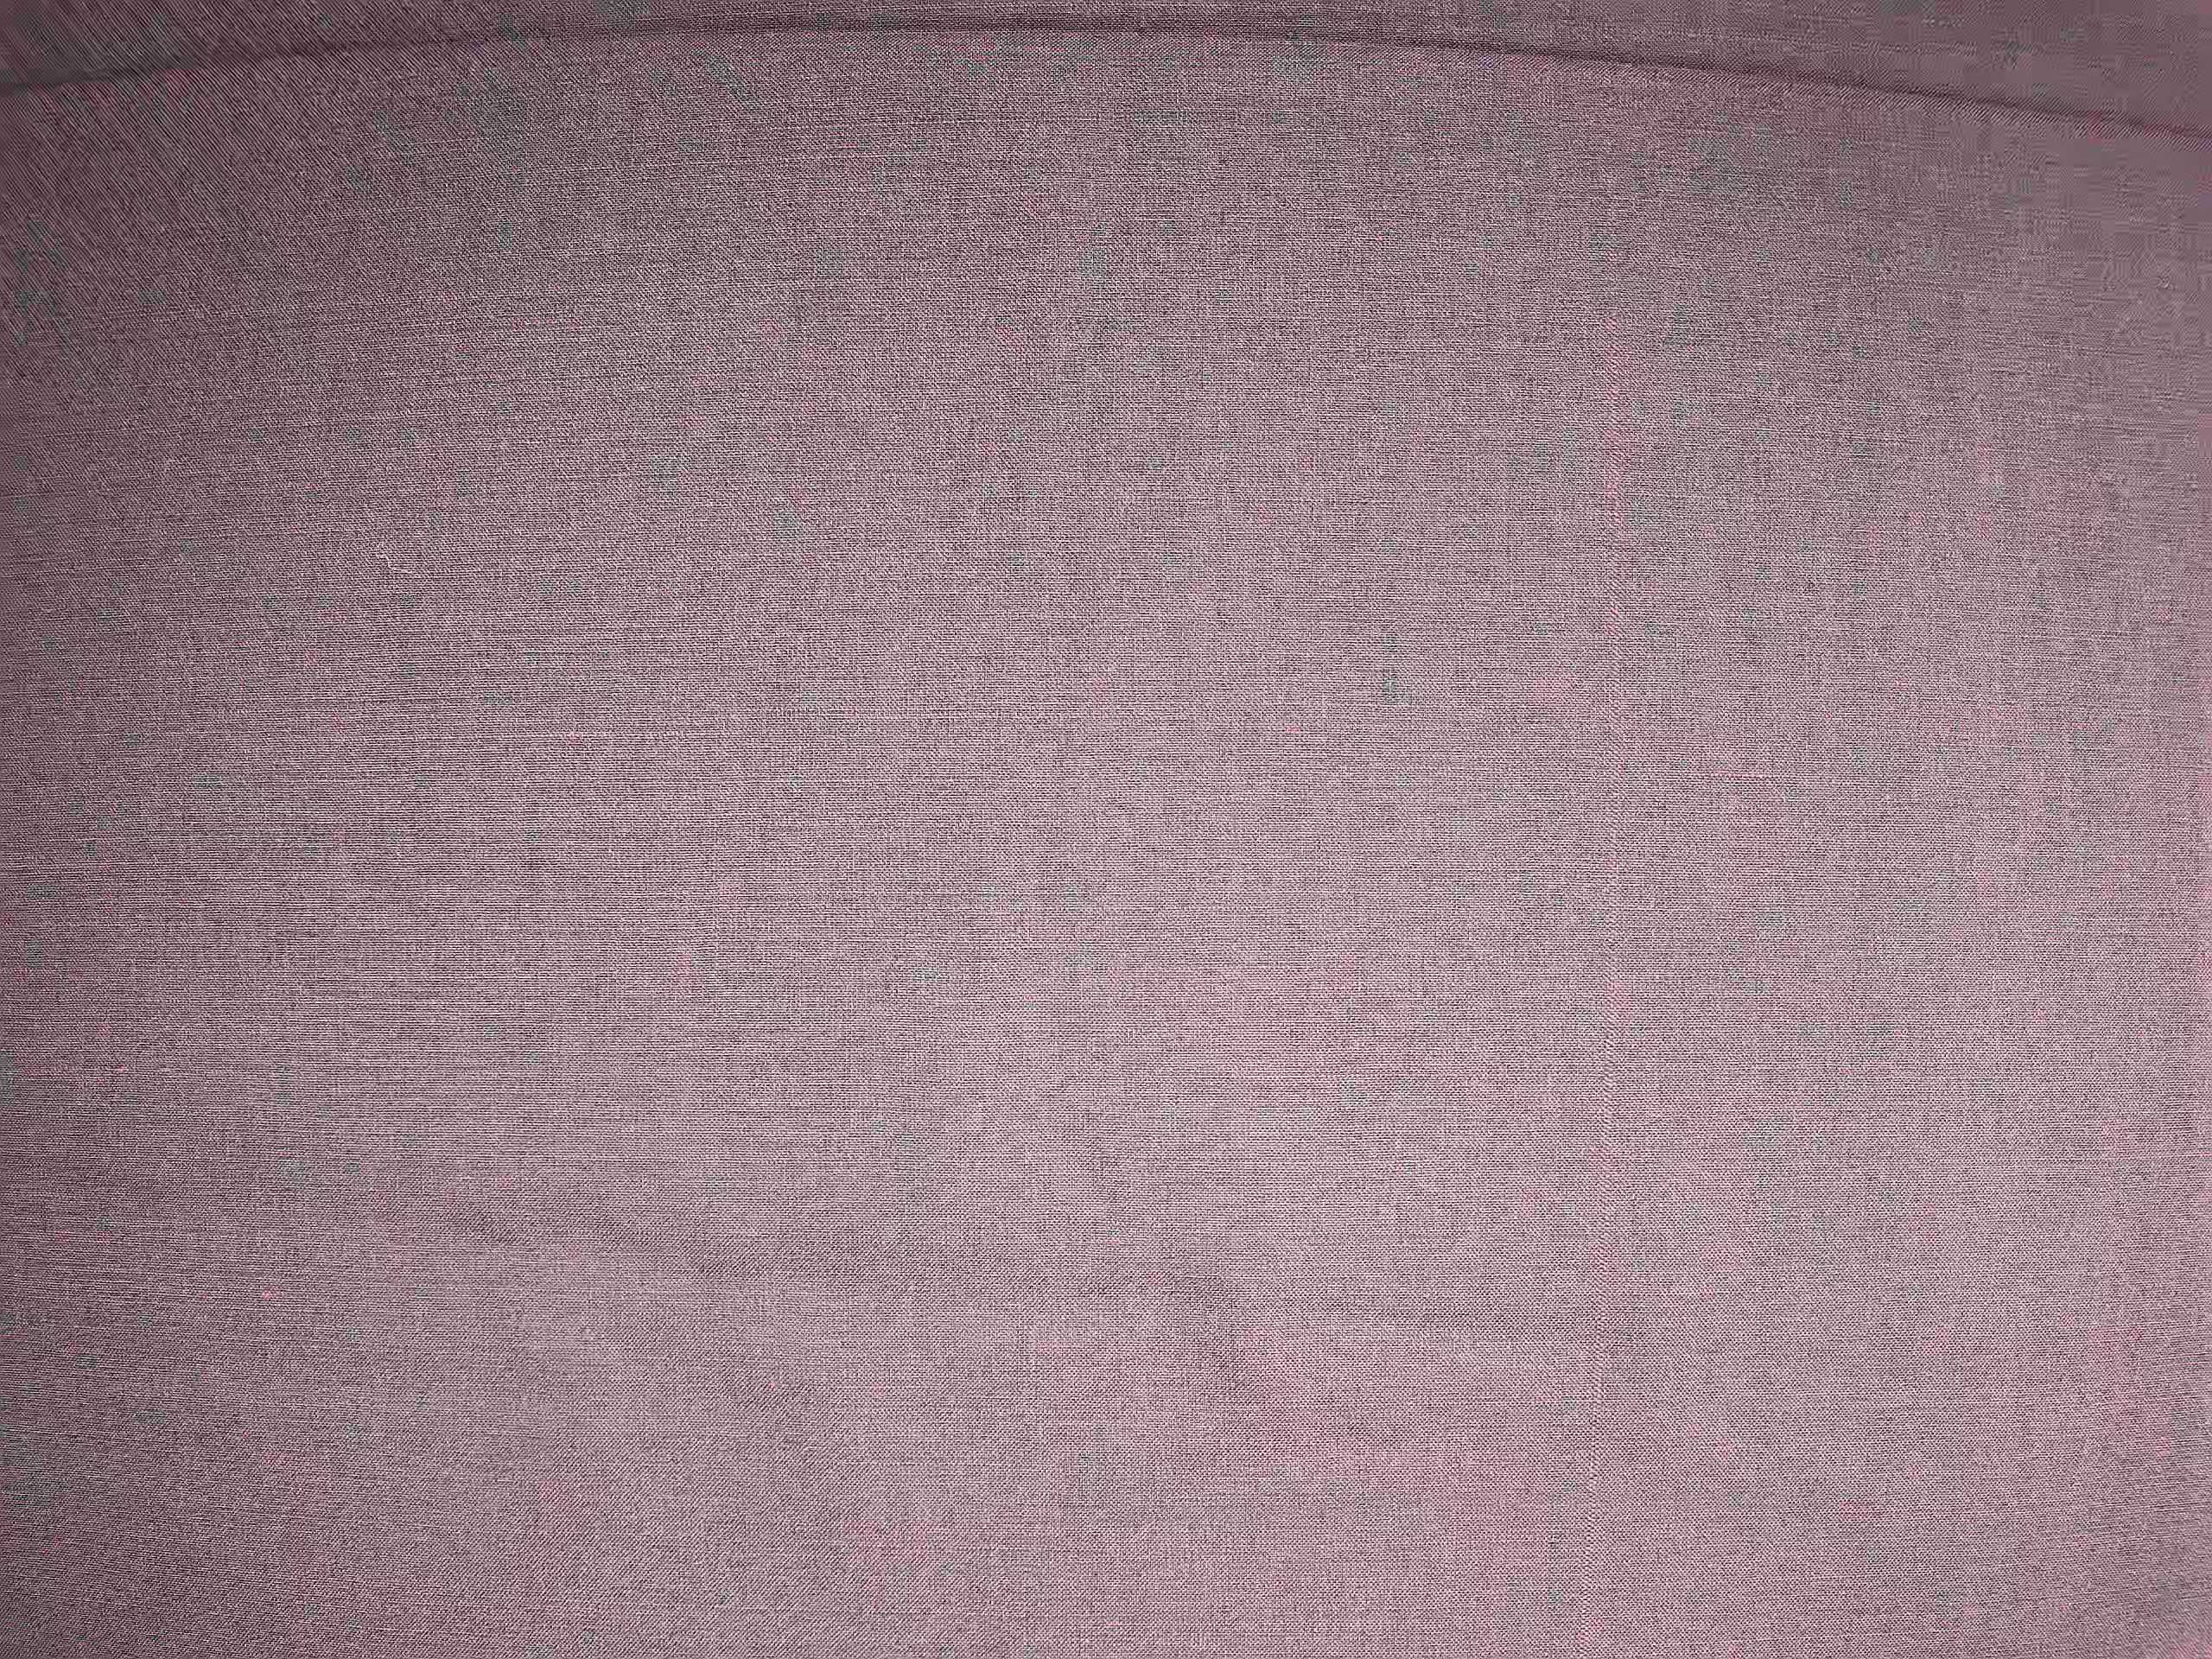lacking-warp: (1576, 35, 1641, 1631)
